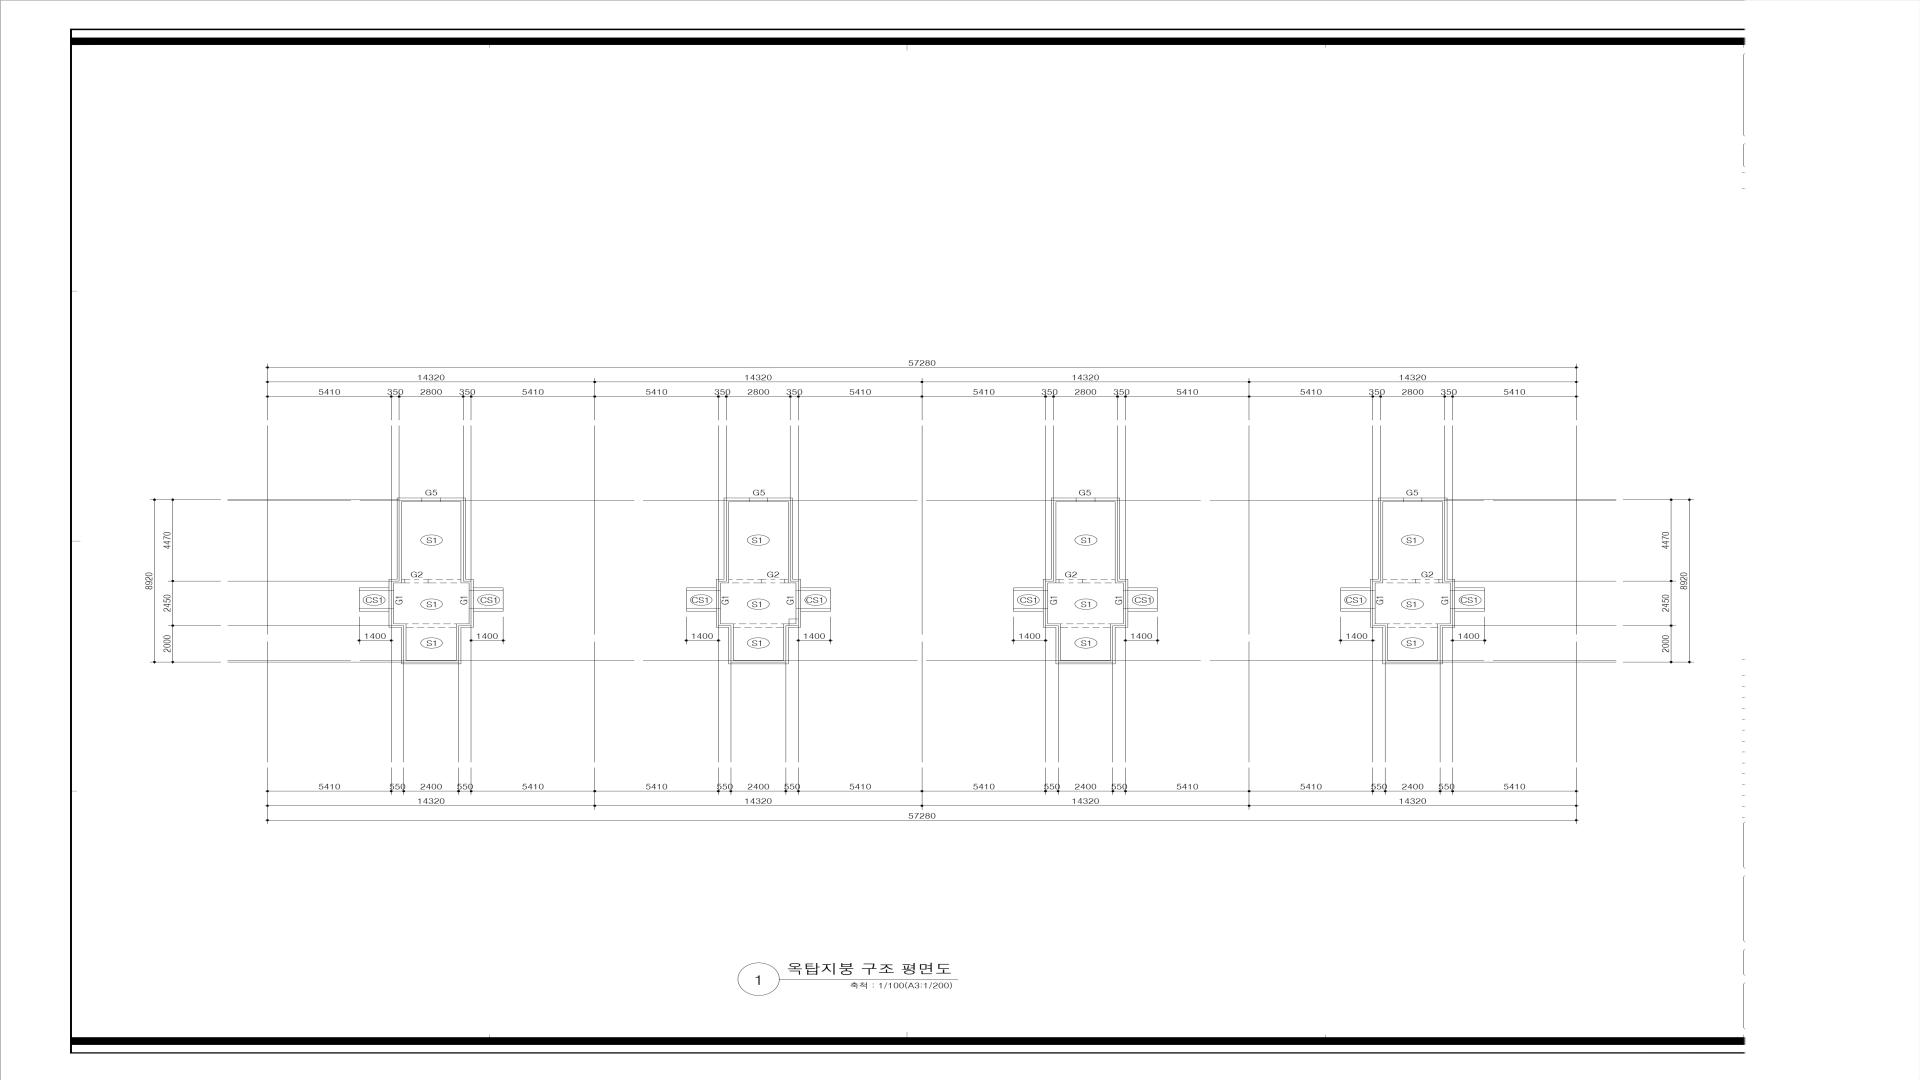wall: (1115, 498, 1128, 609), (788, 498, 801, 609), (716, 498, 729, 609), (1043, 498, 1056, 609), (1442, 498, 1455, 609), (1370, 498, 1383, 609), (461, 498, 473, 609), (783, 609, 801, 664), (1043, 609, 1061, 664), (1370, 609, 1388, 664), (716, 609, 733, 664), (389, 609, 406, 664), (456, 609, 473, 664), (1111, 609, 1128, 664), (1438, 609, 1455, 664), (389, 579, 405, 609), (397, 498, 402, 579), (733, 660, 783, 664), (1061, 660, 1111, 664), (1388, 660, 1438, 664), (406, 660, 456, 664), (359, 588, 389, 591), (686, 588, 716, 591), (1013, 588, 1043, 591), (1128, 588, 1157, 591), (1455, 588, 1484, 591), (401, 498, 422, 502), (440, 498, 461, 502), (1095, 498, 1115, 502), (1383, 498, 1403, 502), (1422, 498, 1442, 502), (729, 498, 749, 502), (768, 498, 788, 502), (1056, 498, 1076, 502), (749, 498, 768, 502), (1076, 498, 1095, 502), (1403, 498, 1422, 502), (422, 498, 440, 502), (359, 609, 389, 611), (473, 588, 503, 590), (473, 609, 503, 611), (686, 609, 716, 611), (801, 588, 831, 590), (1013, 609, 1043, 611), (1128, 609, 1158, 611), (1340, 588, 1370, 590), (1340, 609, 1370, 611), (801, 609, 830, 611), (1455, 609, 1484, 611), (784, 579, 788, 583), (1056, 579, 1059, 583), (1439, 579, 1442, 583)
